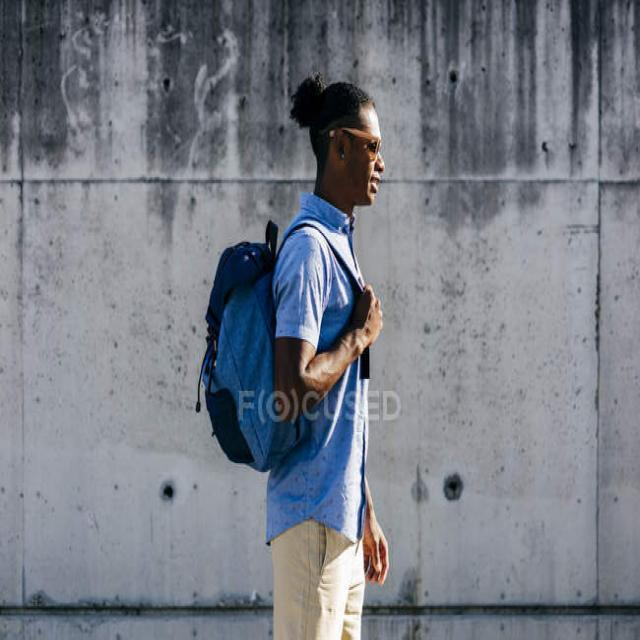Backpacks: (202, 223, 288, 470)
